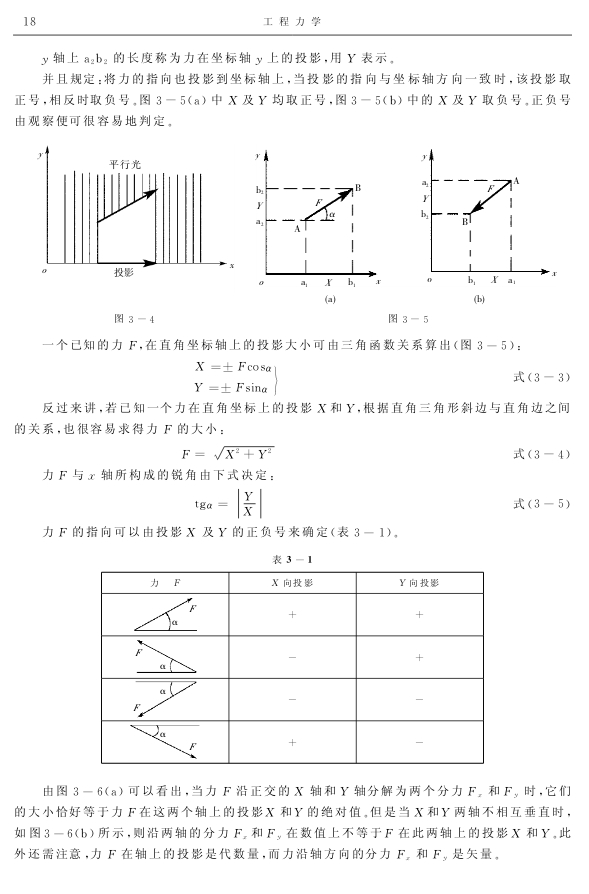table: (101, 572, 483, 763)
